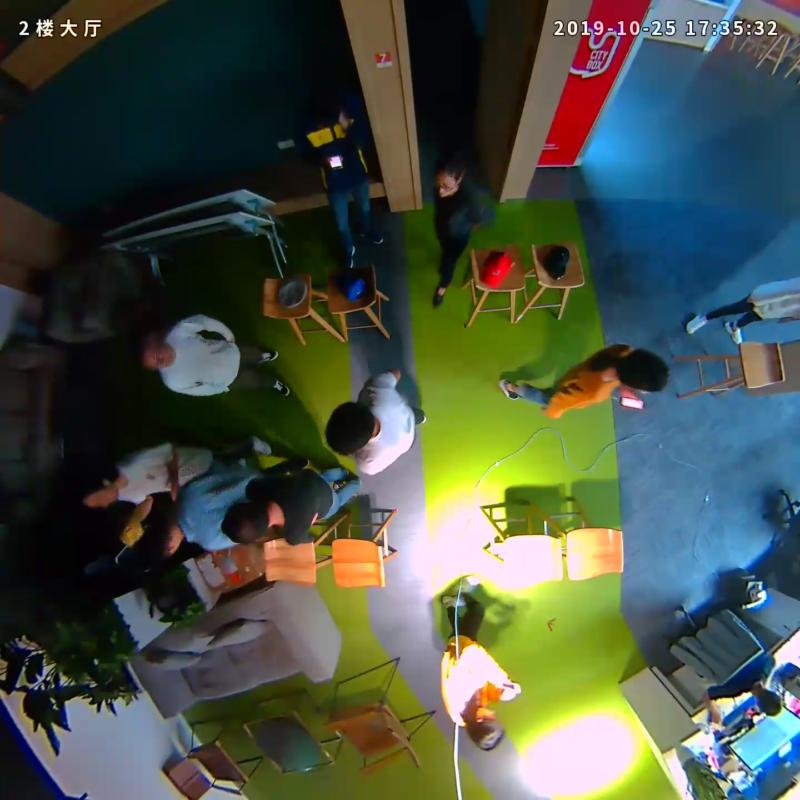head: (325, 401, 376, 454), (620, 348, 671, 392), (219, 500, 270, 543), (73, 463, 120, 507), (137, 522, 184, 565), (129, 330, 173, 372), (292, 73, 333, 116), (468, 702, 502, 750), (436, 149, 467, 200)
